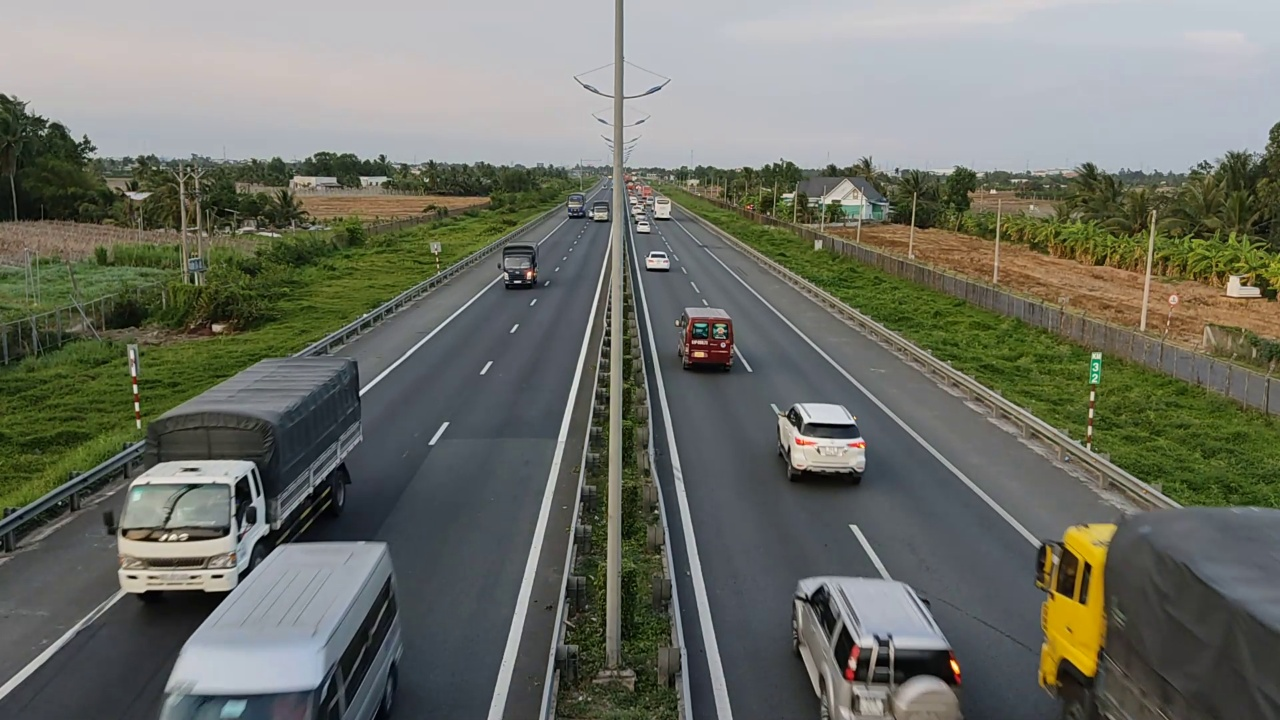car: (159, 539, 406, 717), (771, 403, 867, 481), (645, 250, 671, 271)
truck: (115, 355, 365, 599), (1033, 505, 1279, 716), (498, 240, 544, 291)
